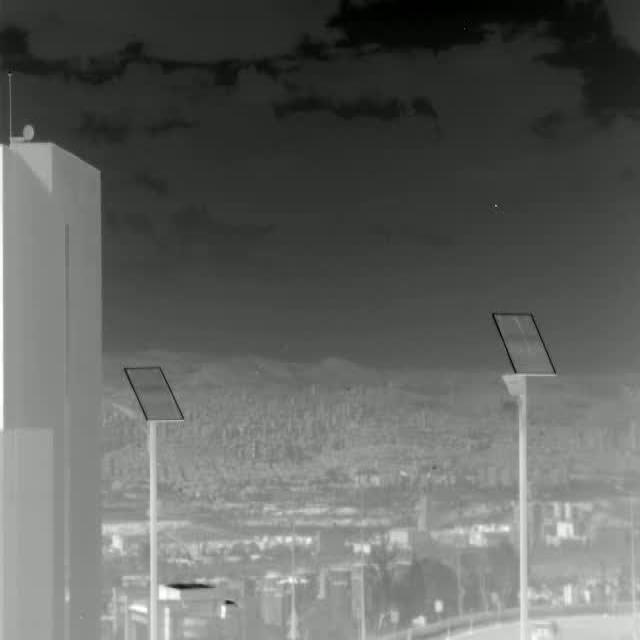Car: (531, 618, 560, 640)
